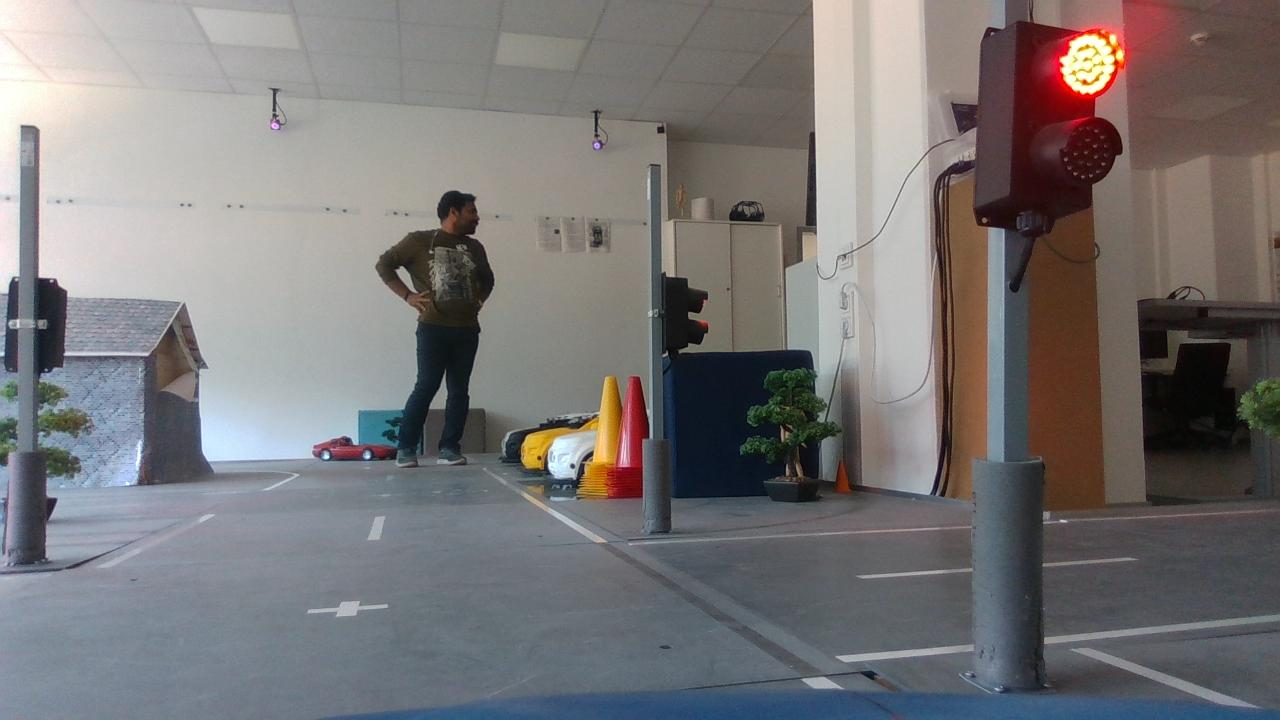traffic_light_red: (963, 12, 1136, 242)
